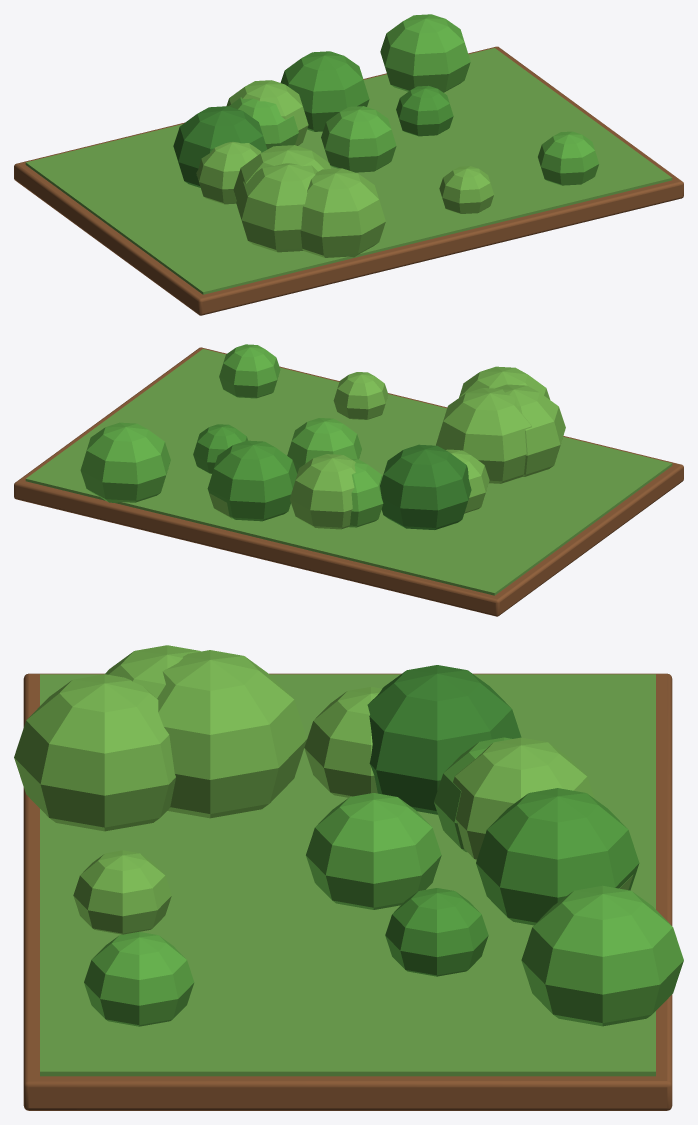
File: roof_garden.fbx
3 renders of one model, top to bottom at view 1: azimuth 30°, elevation 25°; view 2: azimuth 150°, elevation 25°; view 3: azimuth 270°, elevation 25°, orthographic. The views are drawn at different scales.
Parts seen in each view (by area): view 1: roof_garden; view 2: roof_garden; view 3: roof_garden.
Part boxes in pixels (x1=…): roof_garden: x1=14, y1=14, x2=683, y2=315; roof_garden: x1=14, y1=344, x2=683, y2=616; roof_garden: x1=14, y1=645, x2=683, y2=1110.
Bounding box in the file's own units: 6 × 1.1 × 4.13.
